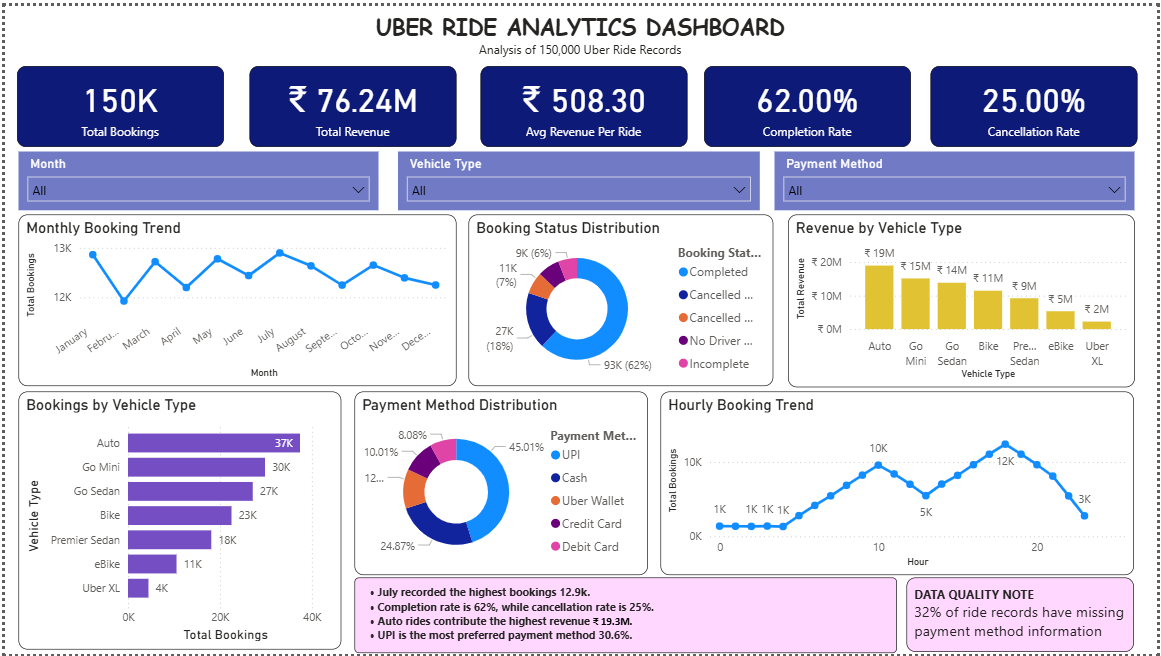

What the dashboard file says about the page in this screenshot:
{"tool":"powerbi","page":{"name":"Page 1","canvas":[1280,720],"ordinal":0},"visuals":[{"type":"card","fields":{"Values":["cleaned_ncr_ride_bookings.Total Bookings"]},"box":[13.5,67.1,230,90],"z":0},{"type":"card","fields":{"Values":["cleaned_ncr_ride_bookings.Total Revenue"]},"box":[271.4,67.1,230,90],"z":1000},{"type":"card","fields":{"Values":["cleaned_ncr_ride_bookings.Avg Revenue Per Ride"]},"box":[528.5,67.1,230,90],"z":2000},{"type":"card","fields":{"Values":["cleaned_ncr_ride_bookings.Completion Rate"]},"box":[776.8,67.1,230,90],"z":3000},{"type":"card","fields":{"Values":["cleaned_ncr_ride_bookings.Cancellation Rate"]},"box":[1028.5,67.1,230,90],"z":4000},{"type":"lineChart","title":"Monthly Booking Trend","fields":{"Category":["cleaned_ncr_ride_bookings.Month"],"Y":["cleaned_ncr_ride_bookings.Total Bookings"]},"box":[14.3,232,486.7,191],"z":5000},{"type":"clusteredColumnChart","title":"Revenue by Vehicle Type","fields":{"Category":["cleaned_ncr_ride_bookings.Vehicle Type"],"Y":["cleaned_ncr_ride_bookings.Total Revenue"]},"box":[870,231.7,385,191.7],"z":6000},{"type":"clusteredBarChart","title":"Bookings by Vehicle Type","fields":{"Y":["cleaned_ncr_ride_bookings.Total Bookings"],"Category":["cleaned_ncr_ride_bookings.Vehicle Type"]},"box":[15,428.3,358.3,286.7],"z":7000},{"type":"donutChart","title":"Booking Status Distribution","fields":{"Category":["cleaned_ncr_ride_bookings.Booking Status"],"Y":["cleaned_ncr_ride_bookings.Total Bookings"]},"box":[515.4,232,338.8,191],"z":8000},{"type":"textbox","box":[0,0,1278.3,66.7],"z":9000},{"type":"lineChart","title":"Hourly Booking Trend","fields":{"Y":["cleaned_ncr_ride_bookings.Total Bookings"],"Category":["cleaned_ncr_ride_bookings.Hour"]},"box":[728.6,428.6,525.7,204.3],"z":10000},{"type":"donutChart","title":"Payment Method Distribution","fields":{"Category":["cleaned_ncr_ride_bookings.Payment Method"],"Y":["cleaned_ncr_ride_bookings.Total Bookings"]},"box":[388.6,428.6,325.7,204.3],"z":11000},{"type":"slicer","fields":{"Values":["cleaned_ncr_ride_bookings.Month"]},"box":[15,161.9,400,65],"z":12000},{"type":"slicer","fields":{"Values":["cleaned_ncr_ride_bookings.Vehicle Type"]},"box":[436.7,161.9,401.7,65],"z":13000},{"type":"slicer","fields":{"Values":["cleaned_ncr_ride_bookings.Payment Method"]},"box":[855,161.9,400,65],"z":14000},{"type":"textbox","box":[388.6,634.7,602.4,84.2],"z":15000},{"type":"textbox","box":[1002.3,634.7,252.6,82.6],"z":16000}]}

Visuals, with their boxes in screenshot pixels (x1, y1, x2, y2), scaled from the page's 1280x720 canvas onto the 1161x656 screenshot:
card - cleaned_ncr_ride_bookings.Total Bookings: x1=12 y1=61 x2=221 y2=143
card - cleaned_ncr_ride_bookings.Total Revenue: x1=246 y1=61 x2=455 y2=143
card - cleaned_ncr_ride_bookings.Avg Revenue Per Ride: x1=479 y1=61 x2=688 y2=143
card - cleaned_ncr_ride_bookings.Completion Rate: x1=705 y1=61 x2=913 y2=143
card - cleaned_ncr_ride_bookings.Cancellation Rate: x1=933 y1=61 x2=1141 y2=143
"Monthly Booking Trend" lineChart: x1=13 y1=211 x2=454 y2=385
"Revenue by Vehicle Type" clusteredColumnChart: x1=789 y1=211 x2=1138 y2=386
"Bookings by Vehicle Type" clusteredBarChart: x1=14 y1=390 x2=339 y2=651
"Booking Status Distribution" donutChart: x1=467 y1=211 x2=775 y2=385
textbox: x1=0 y1=0 x2=1159 y2=61
"Hourly Booking Trend" lineChart: x1=661 y1=391 x2=1138 y2=577
"Payment Method Distribution" donutChart: x1=352 y1=391 x2=648 y2=577
slicer - cleaned_ncr_ride_bookings.Month: x1=14 y1=148 x2=376 y2=207
slicer - cleaned_ncr_ride_bookings.Vehicle Type: x1=396 y1=148 x2=760 y2=207
slicer - cleaned_ncr_ride_bookings.Payment Method: x1=776 y1=148 x2=1138 y2=207
textbox: x1=352 y1=578 x2=899 y2=655
textbox: x1=909 y1=578 x2=1138 y2=654
